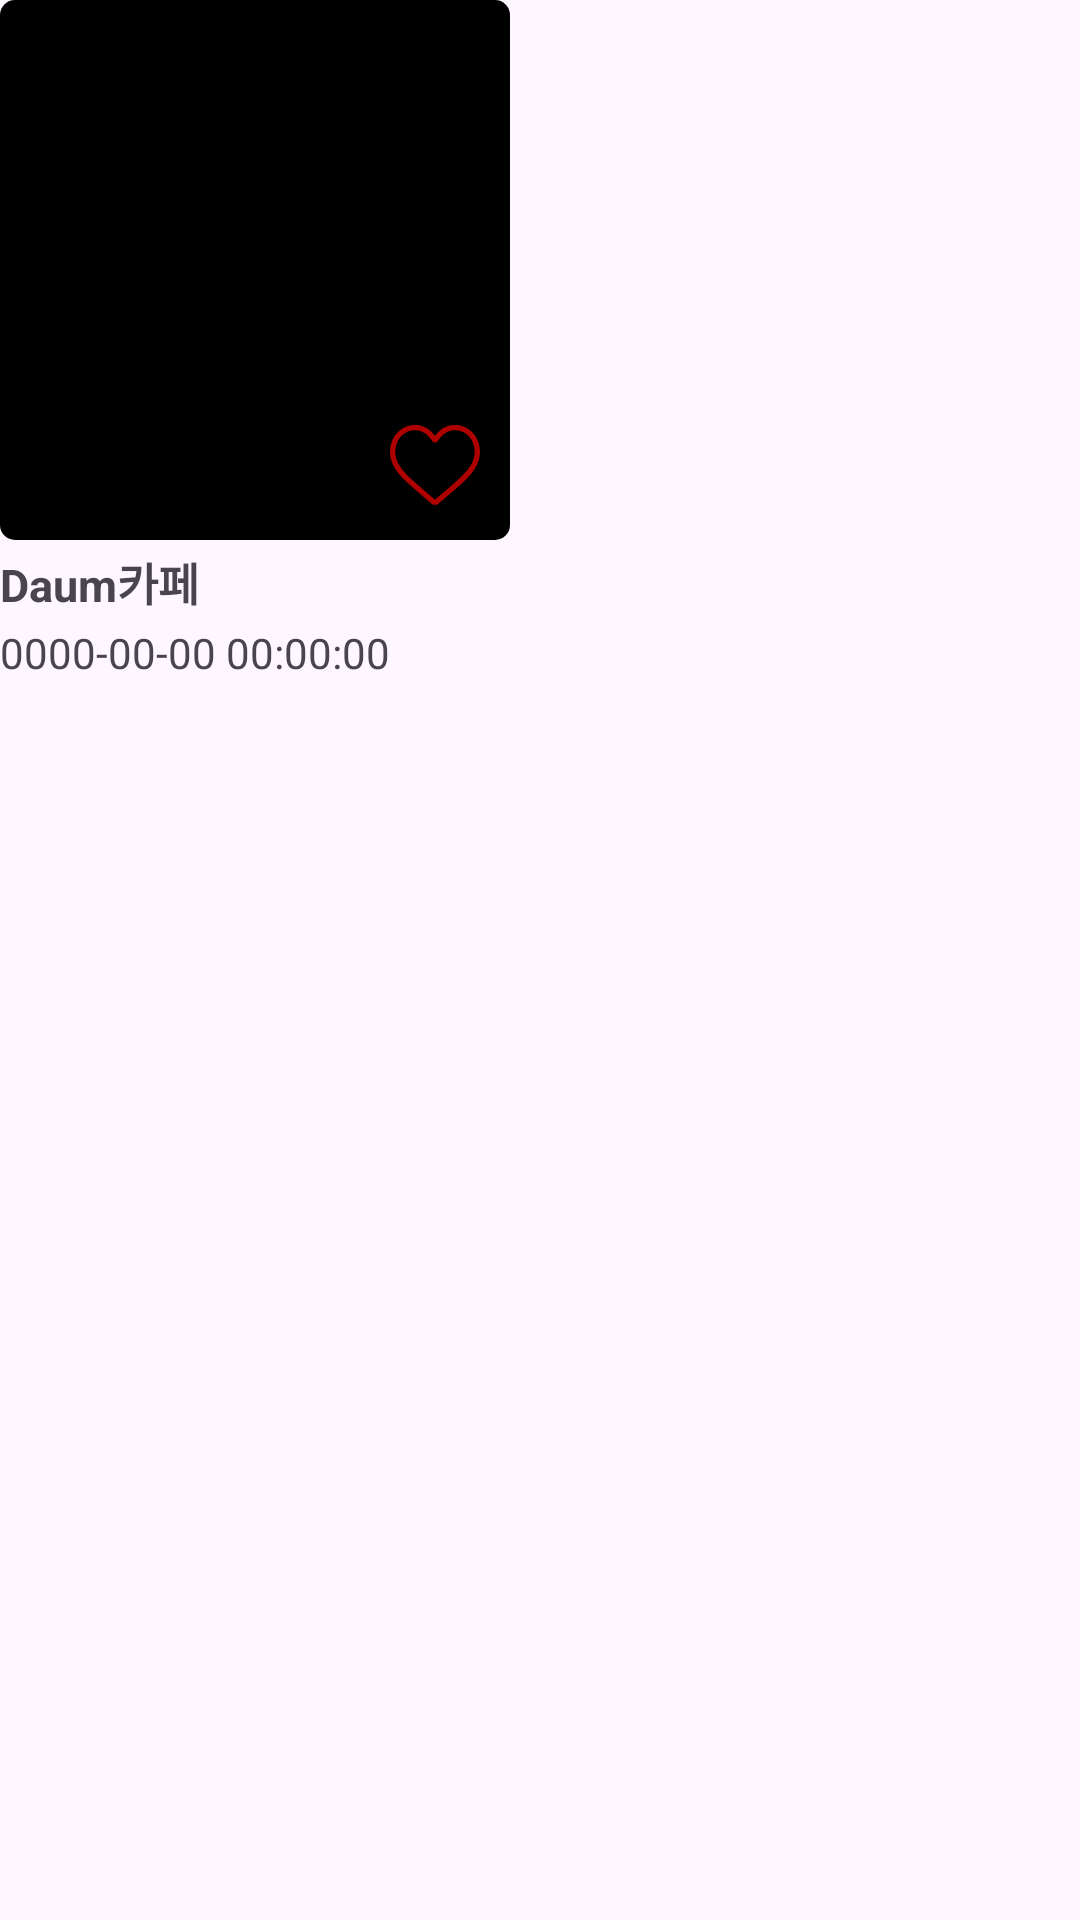

Named icons in this screenshot (1080*1920) and their bounding boxes, box=[x1, y1, x2, y2]:
heart: box=[390, 425, 480, 505]
